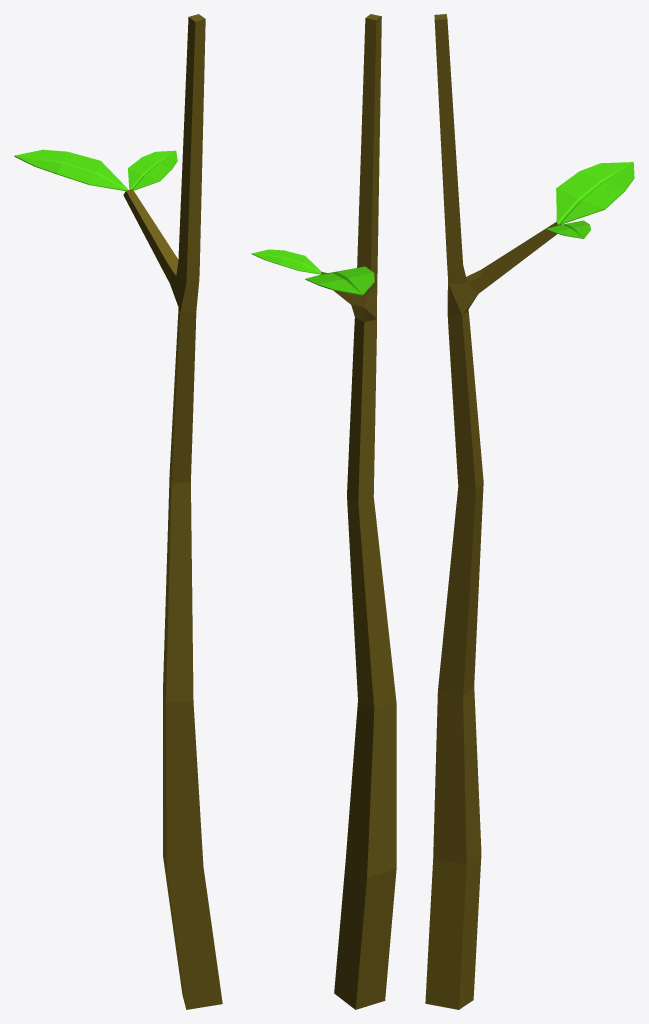
The model's file is stick.glb.
3 renders of one model, left to right at view 1: azimuth 30°, elevation 25°; view 2: azimuth 150°, elevation 25°; view 3: azimuth 270°, elevation 25°, orthographic.
Visible parts, largest first — view 1: Plane, Plane.001, Plane.002; view 2: Plane, Plane.001, Plane.002; view 3: Plane, Plane.001, Plane.002.
Part boxes in pixels (x1,y1,x2,y2): Plane: (123,14,222,1009); Plane.001: (14,149,128,191); Plane.002: (128,150,177,190); Plane: (321,14,396,1009); Plane.001: (305,266,374,295); Plane.002: (251,249,322,274); Plane: (425,14,558,1009); Plane.001: (556,162,634,225); Plane.002: (546,220,590,238).
Size of the model in its own units: 6.38 by 43.98 by 8.49.
